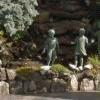Statue: (38, 23, 93, 65)
